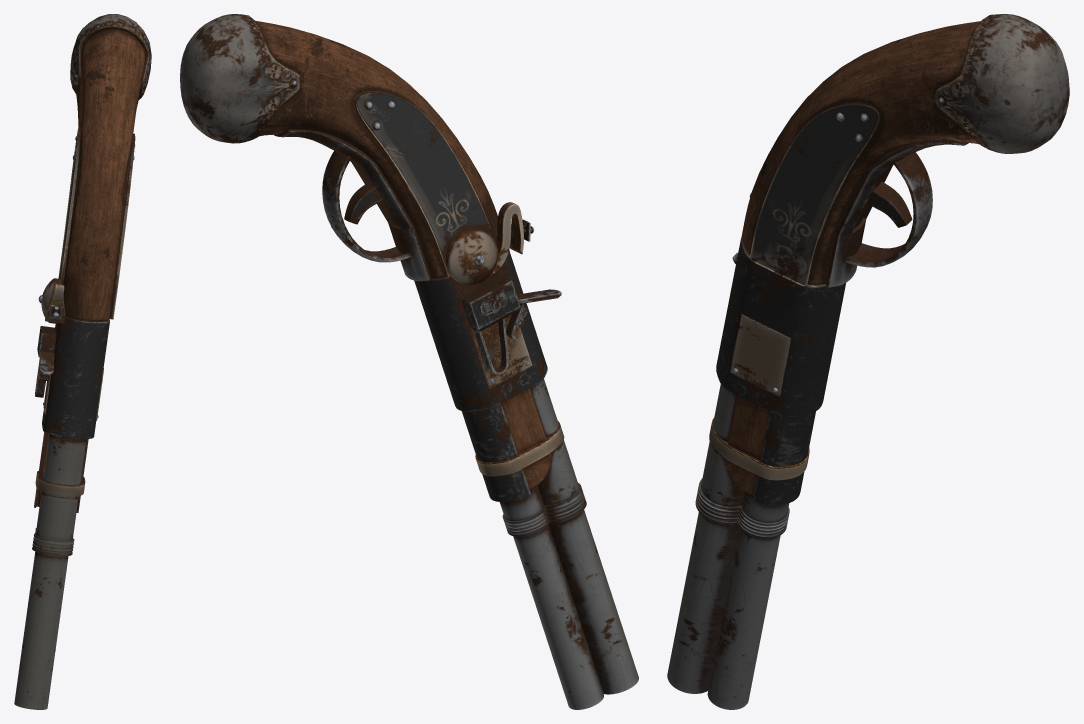
The model's file is PiratePistol.fbx.
The picture shows the model from 3 angles, left to right: view 1: azimuth 30°, elevation 25°; view 2: azimuth 150°, elevation 25°; view 3: azimuth 270°, elevation 25°; orthographic projection. The views are drawn at different scales.
Visible parts, largest first — view 1: pistol.Shape; view 2: pistol.Shape; view 3: pistol.Shape.
Boxes of the visible parts, box(x1,y1,x2,y2) form: pistol.Shape: box(14, 14, 151, 709); pistol.Shape: box(180, 14, 638, 709); pistol.Shape: box(667, 14, 1069, 709).
Size of the model in its own units: 16.16 by 36.36 by 16.4.
